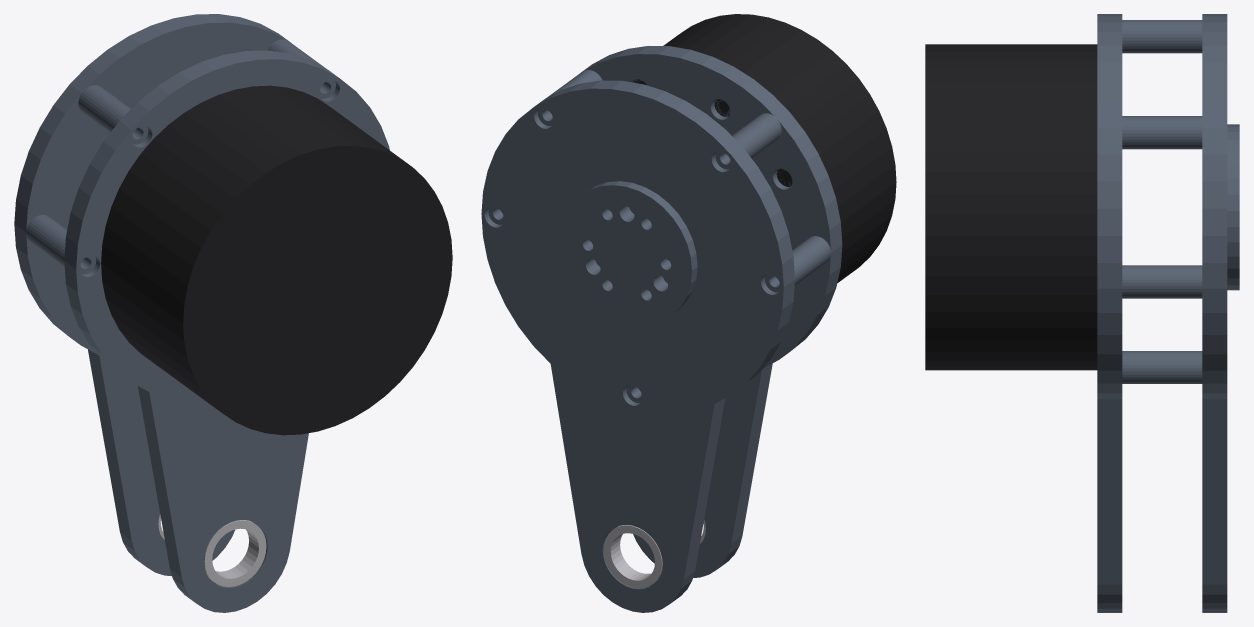
Rendered from thigh_R.dae.
3 renders of one model, left to right at view 1: azimuth 30°, elevation 25°; view 2: azimuth 150°, elevation 25°; view 3: azimuth 270°, elevation 25°, orthographic. The views are drawn at different scales.
Visible parts, largest first — view 1: thigh_R-motor, thigh_R-printed, thigh_R-steel; view 2: thigh_R-printed, thigh_R-motor, thigh_R-steel; view 3: thigh_R-motor, thigh_R-printed.
Boxes of the visible parts, x1,y1,x2,y2 form: thigh_R-motor: (101,85,452,435); thigh_R-printed: (14,14,389,612); thigh_R-steel: (158,514,266,586); thigh_R-printed: (481,46,842,612); thigh_R-motor: (634,14,896,282); thigh_R-steel: (603,519,705,588); thigh_R-motor: (925,44,1097,370); thigh_R-printed: (1097,14,1239,612).
Bounding box in the file's own units: 0.093 × 0.0756 × 0.1525.
